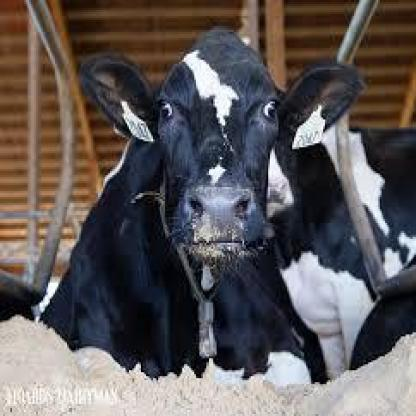cow: (38, 26, 364, 386), (266, 122, 416, 370)
